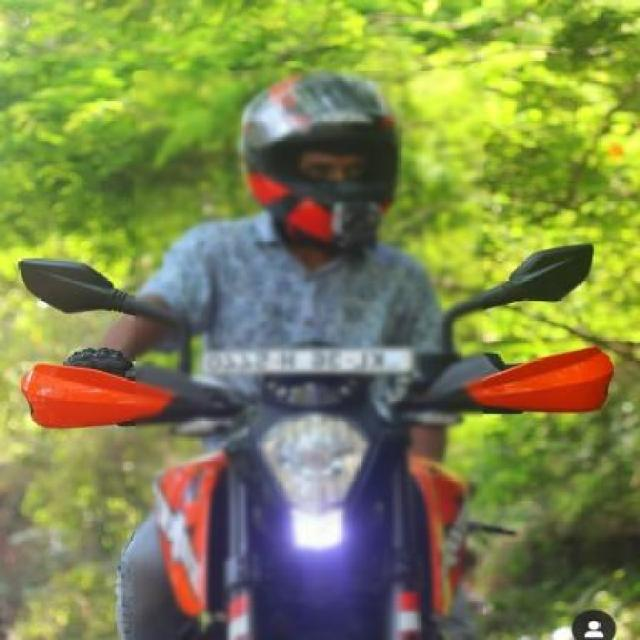helmet: (222, 63, 410, 269)
motorcycle: (19, 52, 577, 640)
